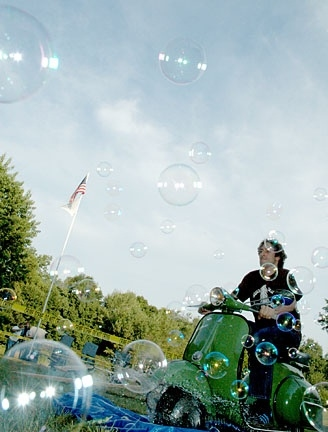motorbike: (154, 287, 323, 431)
person: (196, 239, 301, 427)
